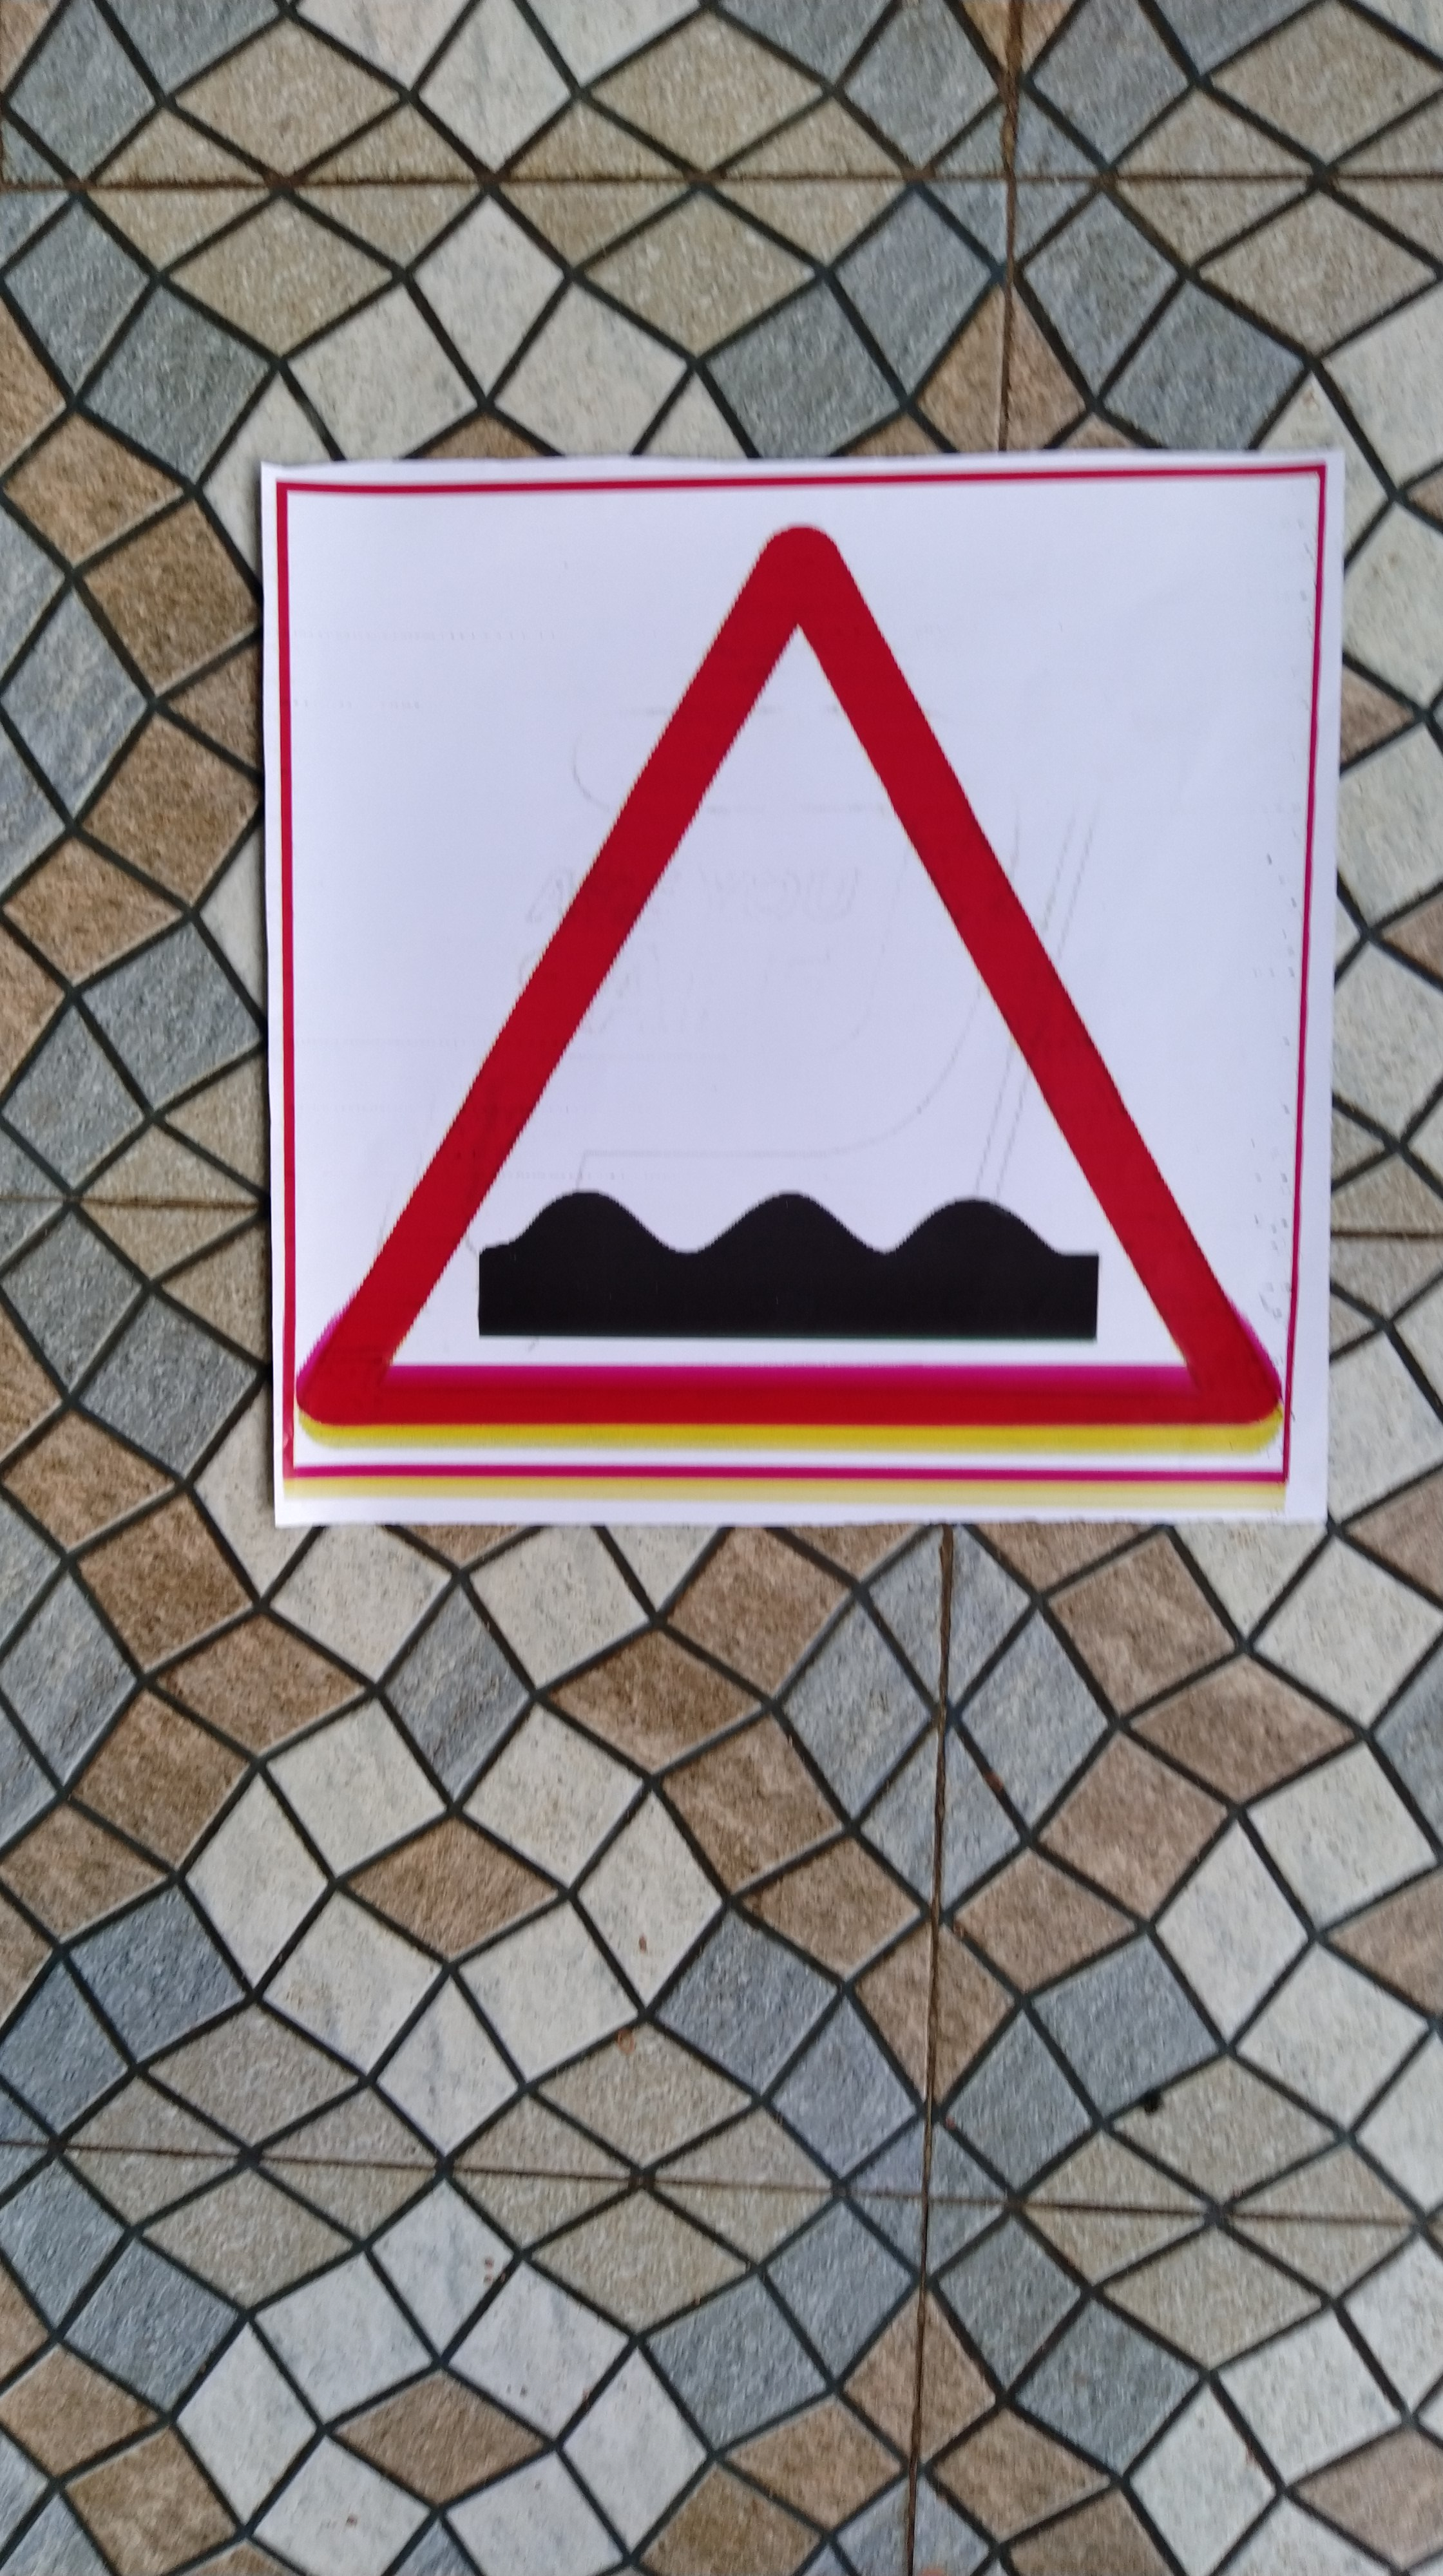speed breaker: (267, 465, 1323, 1523), (276, 481, 1319, 1520)
